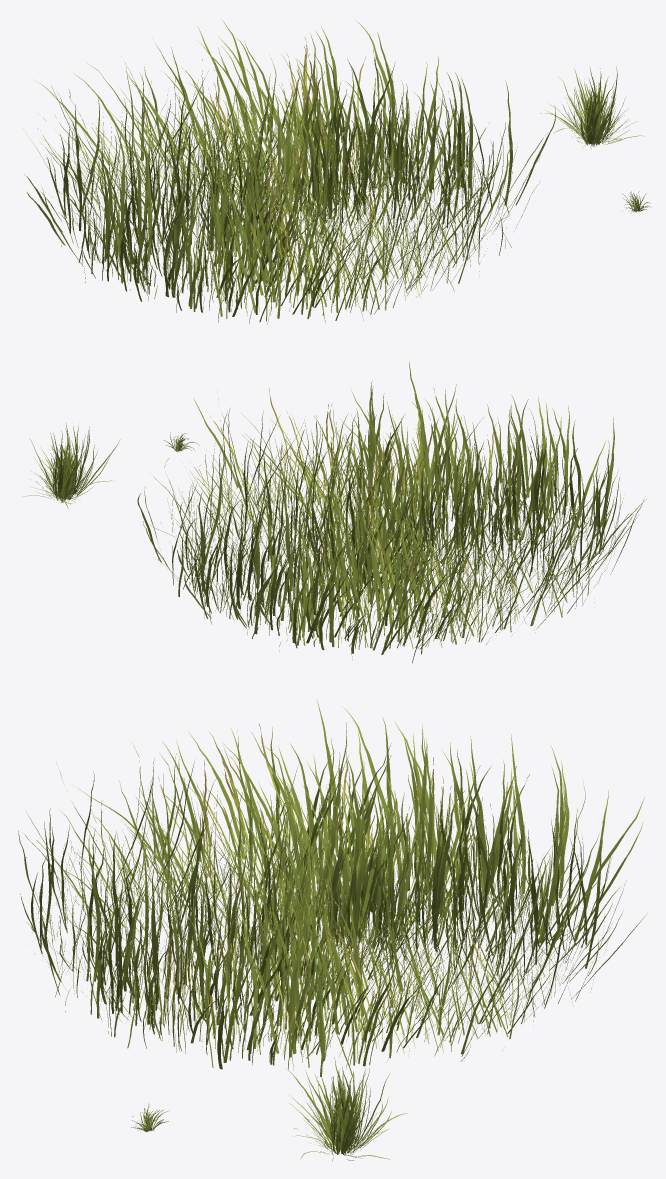
Rendered from Grass.fbx.
3 views of the same model, one above another, from view 1: azimuth 30°, elevation 25°; view 2: azimuth 150°, elevation 25°; view 3: azimuth 270°, elevation 25° (orthographic). The views are drawn at different scales.
Parts seen in each view (by area): view 1: GrassLawnAutumn, Grass1; view 2: GrassLawnAutumn, Grass1; view 3: GrassLawnAutumn, Grass1.
Boxes of the visible parts, x1,y1,x2,y2 form: GrassLawnAutumn: (23, 19, 555, 324); Grass1: (540, 66, 644, 149); GrassLawnAutumn: (137, 361, 646, 663); Grass1: (23, 423, 120, 509); GrassLawnAutumn: (18, 699, 646, 1076); Grass1: (287, 1057, 407, 1161).
Bounding box in the file's own units: 4.79 × 1.02 × 3.57.
